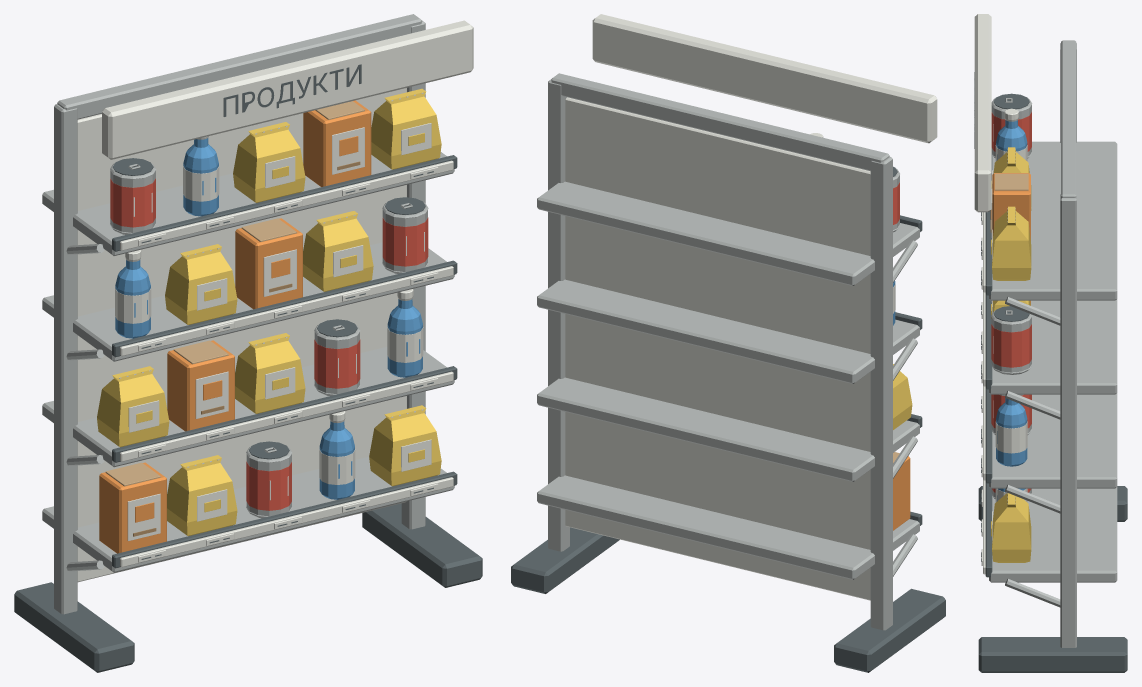
File: Shelf_Wall.fbx
3 renders of one model, left to right at view 1: azimuth 30°, elevation 25°; view 2: azimuth 150°, elevation 25°; view 3: azimuth 270°, elevation 25°, orthographic. The views are drawn at different scales.
Parts seen in each view (by area): view 1: Shelf_Wall__LPCXFER, Shelf_Wall__Back_wall__LPCXFER, Shelf_Wall__Header_wall__LPCXFER, Shelf_Wall__Shelf_1__LPCXFER, Shelf_Wall__Shelf_4__LPCXFER, Shelf_Wall__Shelf_3__LPCXFER, Shelf_Wall__Shelf_2__LPCXFER, Shelf_Wall_Item_1_F_1_box__LPCXFER, Shelf_Wall_Item_2_F_2_box__LPCXFER, Shelf_Wall_Item_3_F_3_box__LPCXFER, Shelf_Wall_Item_4_F_4_box__LPCXFER, Shelf_Wall_Item_4_F_3_bag__LPCXFER (+16 smaller); view 2: Shelf_Wall__Back_wall__LPCXFER, Shelf_Wall__LPCXFER, Shelf_Wall__Header_wall__LPCXFER, Shelf_Wall__Shelf_3__LPCXFER, Shelf_Wall__Shelf_4__LPCXFER, Shelf_Wall__Shelf_2__LPCXFER, Shelf_Wall__Shelf_1__LPCXFER, Shelf_Wall_Item_1_F_1_box__LPCXFER, Shelf_Wall_Item_2_F_1_bag__LPCXFER; view 3: Shelf_Wall__LPCXFER, Shelf_Wall__Shelf_4__LPCXFER, Shelf_Wall__Shelf_2__LPCXFER, Shelf_Wall__Shelf_1__LPCXFER, Shelf_Wall__Shelf_3__LPCXFER, Shelf_Wall__Header_wall__LPCXFER, Shelf_Wall_Item_3_F_5_can__LPCXFER, Shelf_Wall_Item_4_F_5_bag__LPCXFER, Shelf_Wall_Item_1_F_5_bag__LPCXFER, Shelf_Wall_Item_2_F_5_bottle__LPCXFER, Shelf_Wall_Item_4_F_4_box__LPCXFER, Shelf_Wall_Item_4_F_1_can__LPCXFER (+3 smaller).
Part boxes in pixels (x1,y1,x2,y2): Shelf_Wall__LPCXFER: (14, 14, 482, 672); Shelf_Wall__Back_wall__LPCXFER: (77, 88, 406, 582); Shelf_Wall__Header_wall__LPCXFER: (102, 20, 473, 159); Shelf_Wall__Shelf_1__LPCXFER: (42, 456, 457, 572); Shelf_Wall__Shelf_4__LPCXFER: (42, 152, 457, 255); Shelf_Wall__Shelf_3__LPCXFER: (42, 242, 457, 361); Shelf_Wall__Shelf_2__LPCXFER: (42, 347, 457, 467); Shelf_Wall_Item_1_F_1_box__LPCXFER: (99, 462, 166, 553); Shelf_Wall_Item_2_F_2_box__LPCXFER: (167, 340, 234, 431); Shelf_Wall_Item_3_F_3_box__LPCXFER: (235, 218, 302, 309); Shelf_Wall_Item_4_F_4_box__LPCXFER: (303, 100, 371, 186); Shelf_Wall_Item_4_F_3_bag__LPCXFER: (233, 122, 305, 202); Shelf_Wall__Back_wall__LPCXFER: (565, 97, 870, 600); Shelf_Wall__LPCXFER: (511, 73, 945, 672); Shelf_Wall__Header_wall__LPCXFER: (592, 14, 937, 143); Shelf_Wall__Shelf_3__LPCXFER: (537, 279, 922, 383); Shelf_Wall__Shelf_4__LPCXFER: (537, 181, 922, 285); Shelf_Wall__Shelf_2__LPCXFER: (537, 377, 922, 481); Shelf_Wall__Shelf_1__LPCXFER: (537, 475, 922, 579); Shelf_Wall_Item_1_F_1_box__LPCXFER: (893, 452, 910, 530); Shelf_Wall_Item_2_F_1_bag__LPCXFER: (893, 364, 912, 429); Shelf_Wall__LPCXFER: (978, 40, 1127, 672); Shelf_Wall__Shelf_4__LPCXFER: (981, 141, 1117, 300); Shelf_Wall__Shelf_2__LPCXFER: (981, 340, 1117, 488); Shelf_Wall__Shelf_1__LPCXFER: (981, 434, 1117, 582); Shelf_Wall__Shelf_3__LPCXFER: (981, 246, 1117, 394); Shelf_Wall__Header_wall__LPCXFER: (974, 14, 991, 212); Shelf_Wall_Item_3_F_5_can__LPCXFER: (991, 306, 1032, 374); Shelf_Wall_Item_4_F_5_bag__LPCXFER: (991, 206, 1031, 280); Shelf_Wall_Item_1_F_5_bag__LPCXFER: (991, 493, 1031, 562); Shelf_Wall_Item_2_F_5_bottle__LPCXFER: (995, 394, 1027, 466); Shelf_Wall_Item_4_F_4_box__LPCXFER: (990, 173, 1030, 240); Shelf_Wall_Item_4_F_1_can__LPCXFER: (991, 93, 1032, 158).
Size of the model in its own units: 154 by 212 by 59.15.
